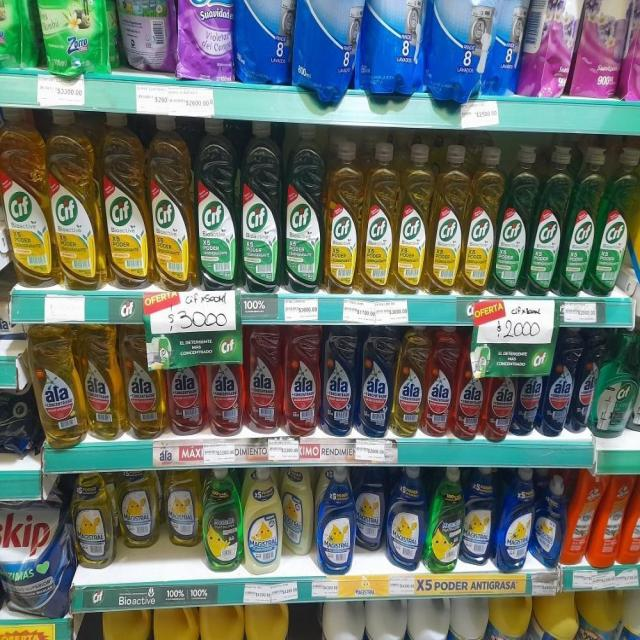ala_conc_amarillo: (33, 325, 81, 448), (124, 326, 164, 439), (83, 325, 122, 440), (394, 327, 424, 438)
ala_conc_azul: (359, 326, 394, 437), (323, 324, 357, 436), (544, 327, 575, 437), (574, 327, 597, 435), (514, 372, 542, 437)
ala_conc_rojo: (284, 323, 321, 438), (246, 323, 283, 434), (206, 335, 244, 436), (168, 346, 205, 436), (425, 328, 455, 438), (455, 330, 483, 440), (484, 370, 514, 442)
ala_crem_amarillo: (154, 606, 197, 640)
cif_conc_bot_amarilla: (51, 110, 99, 290), (3, 110, 50, 287), (102, 112, 148, 289), (150, 114, 194, 288), (325, 138, 360, 294), (429, 143, 464, 296), (361, 139, 395, 295), (396, 141, 428, 296), (464, 144, 496, 296), (0, 115, 5, 290)
cif_conc_botella_verde: (196, 117, 238, 290), (240, 120, 282, 292), (284, 125, 323, 293), (596, 147, 634, 297), (496, 143, 531, 296), (530, 144, 564, 296), (564, 145, 597, 297)
magistral_con_amarillo: (73, 473, 114, 567), (116, 470, 160, 550), (163, 468, 200, 548)
magistral_con_azul: (386, 465, 426, 570), (316, 465, 354, 575), (497, 468, 532, 572), (462, 466, 495, 567), (534, 473, 564, 567), (356, 466, 384, 552)
magistral_con_crema: (243, 466, 282, 574)
magistral_con_verde: (203, 466, 242, 573)
